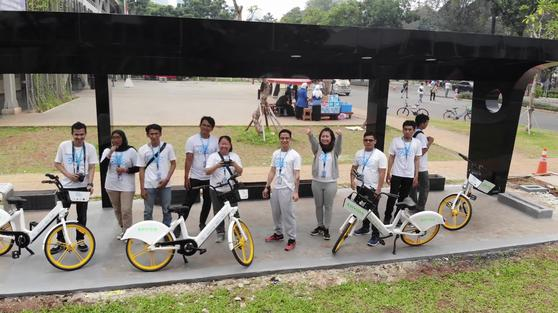bike: (120, 181, 261, 273), (1, 170, 103, 275), (328, 188, 445, 257), (434, 154, 497, 233)
